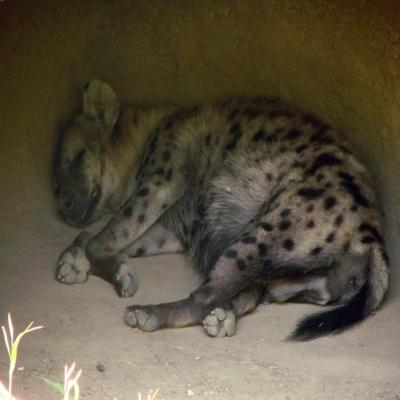hyenas: (8, 62, 400, 361)
